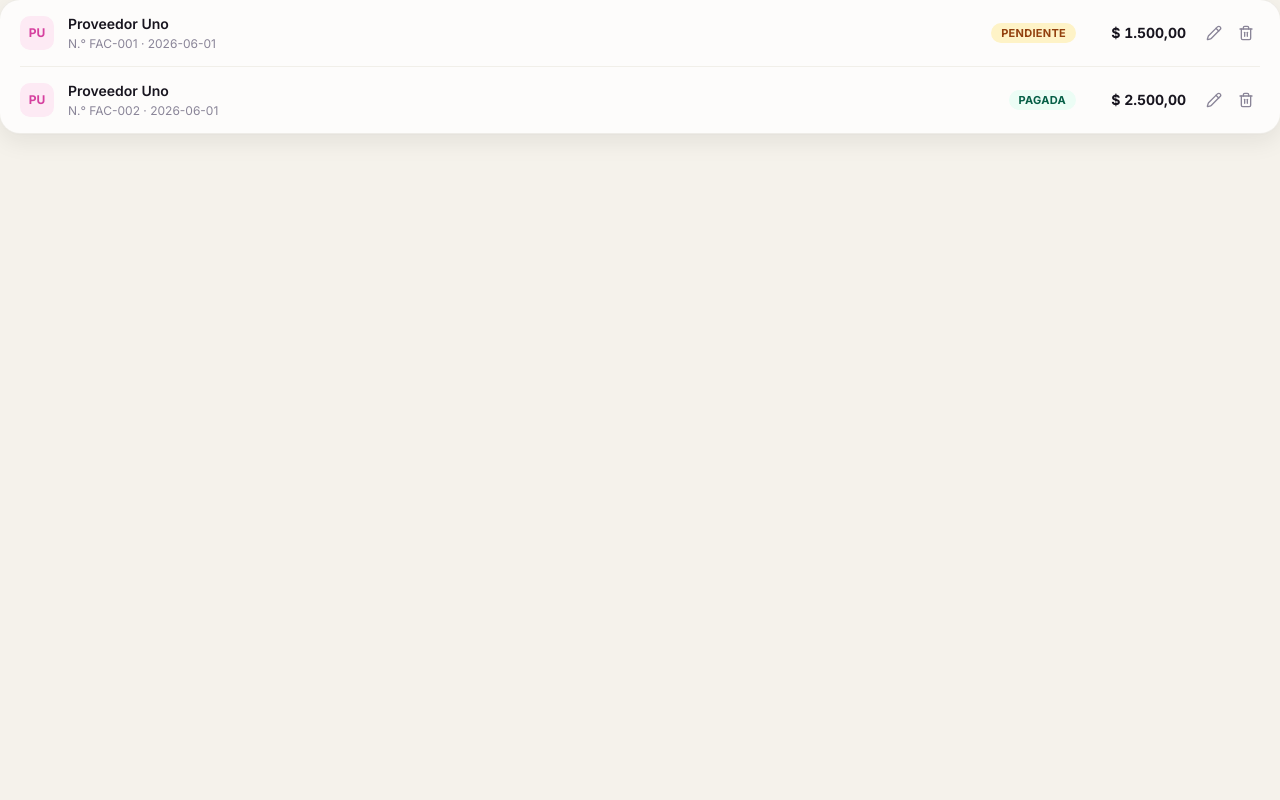
Scenario: FacturasList › shows a confirmation dialog before deleting
The image size is (1280, 800).
expect the text "PENDIENTE" is shown: met, box [991,23,1076,43]
Click the button named "eliminar".
click(1246, 33)  # box [1232,19,1260,47]
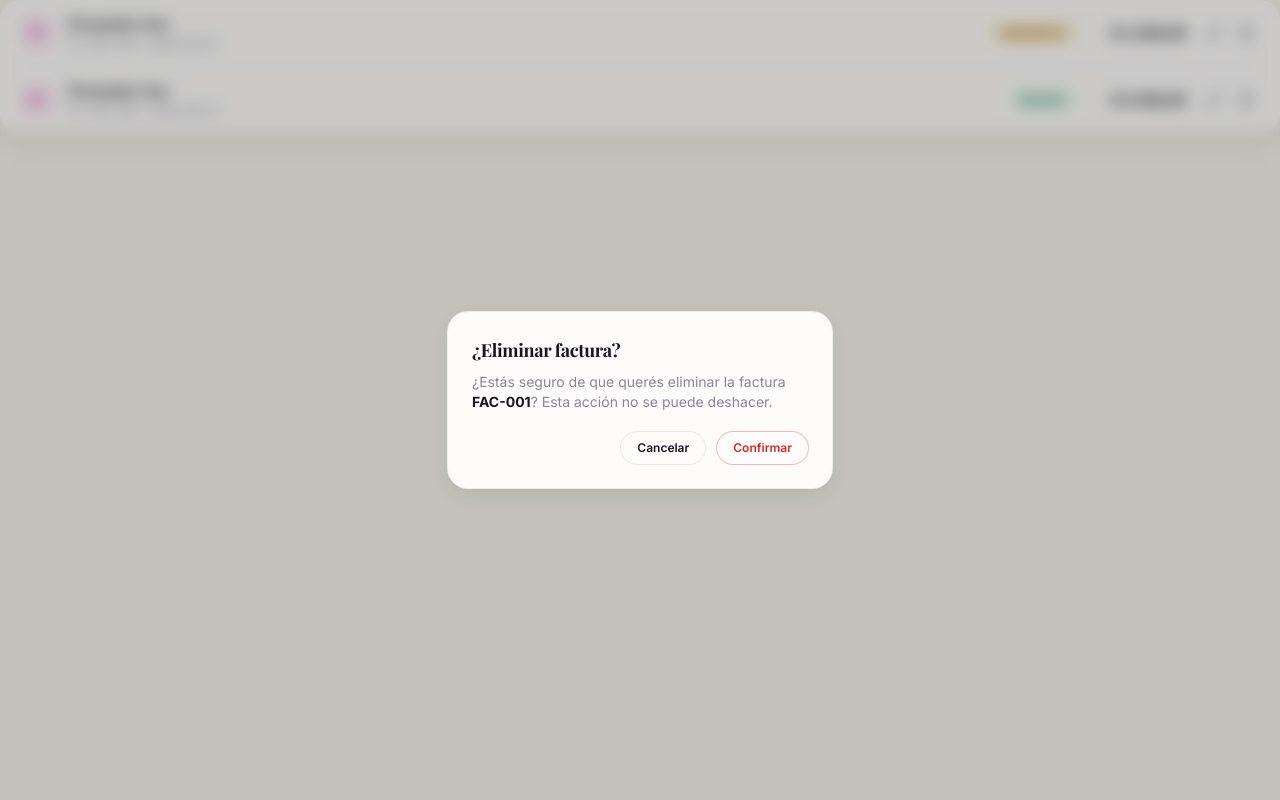
expect the dialog is shown: met
